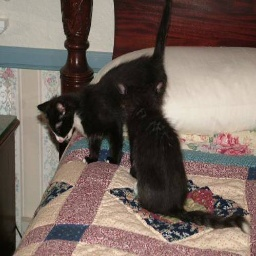cat: (38, 10, 229, 227)
